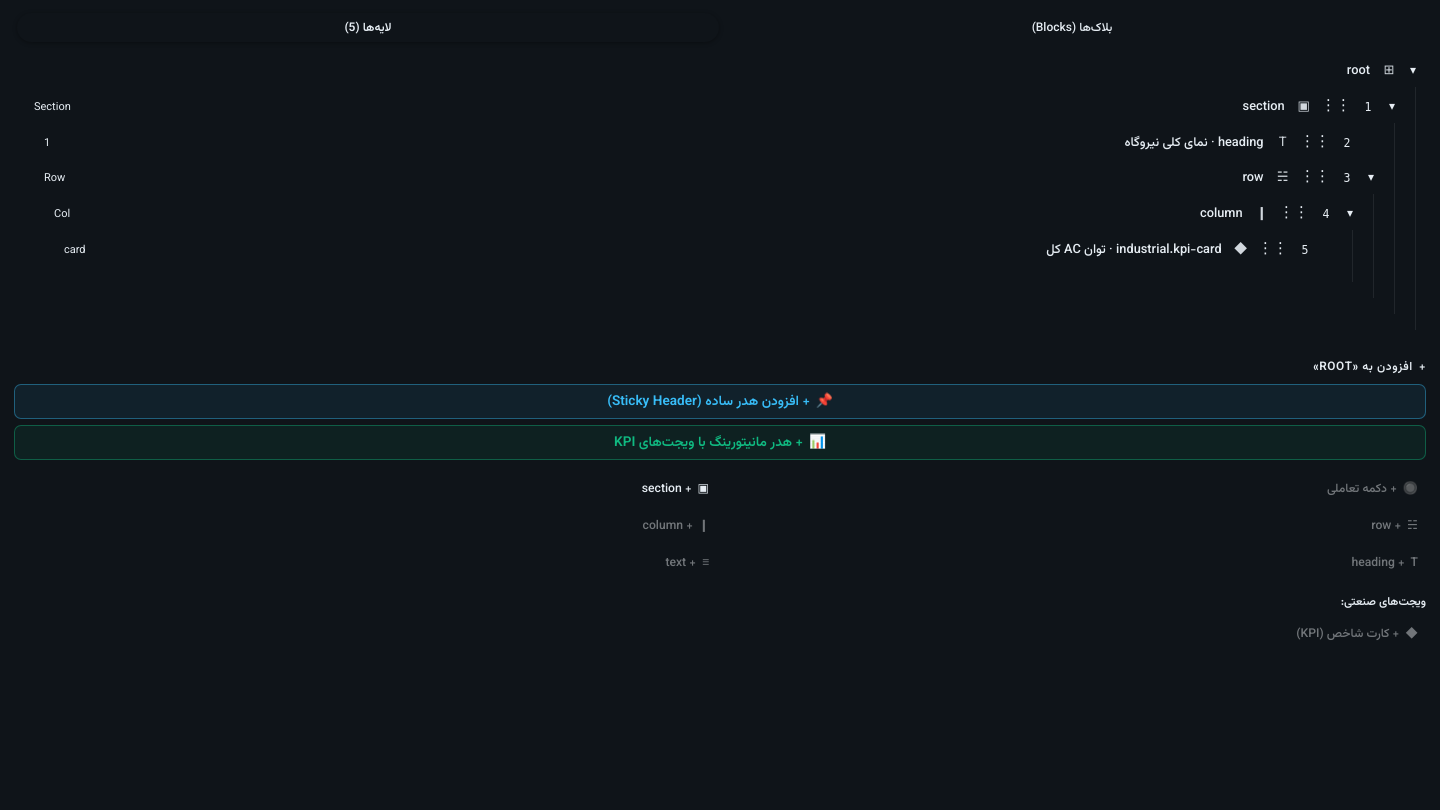
Scenario: layers panel moves nodes between parents › renders the document as a collapsible hierarchy
Expected: the element with test id "layer-kpi-ac-power" is shown, [50,234,1346,266]
What coordinates should you click on to do the following:
click the 3rd button "▾"
I would click on:
 (1371, 178)
Its box is [1362,169,1380,187].
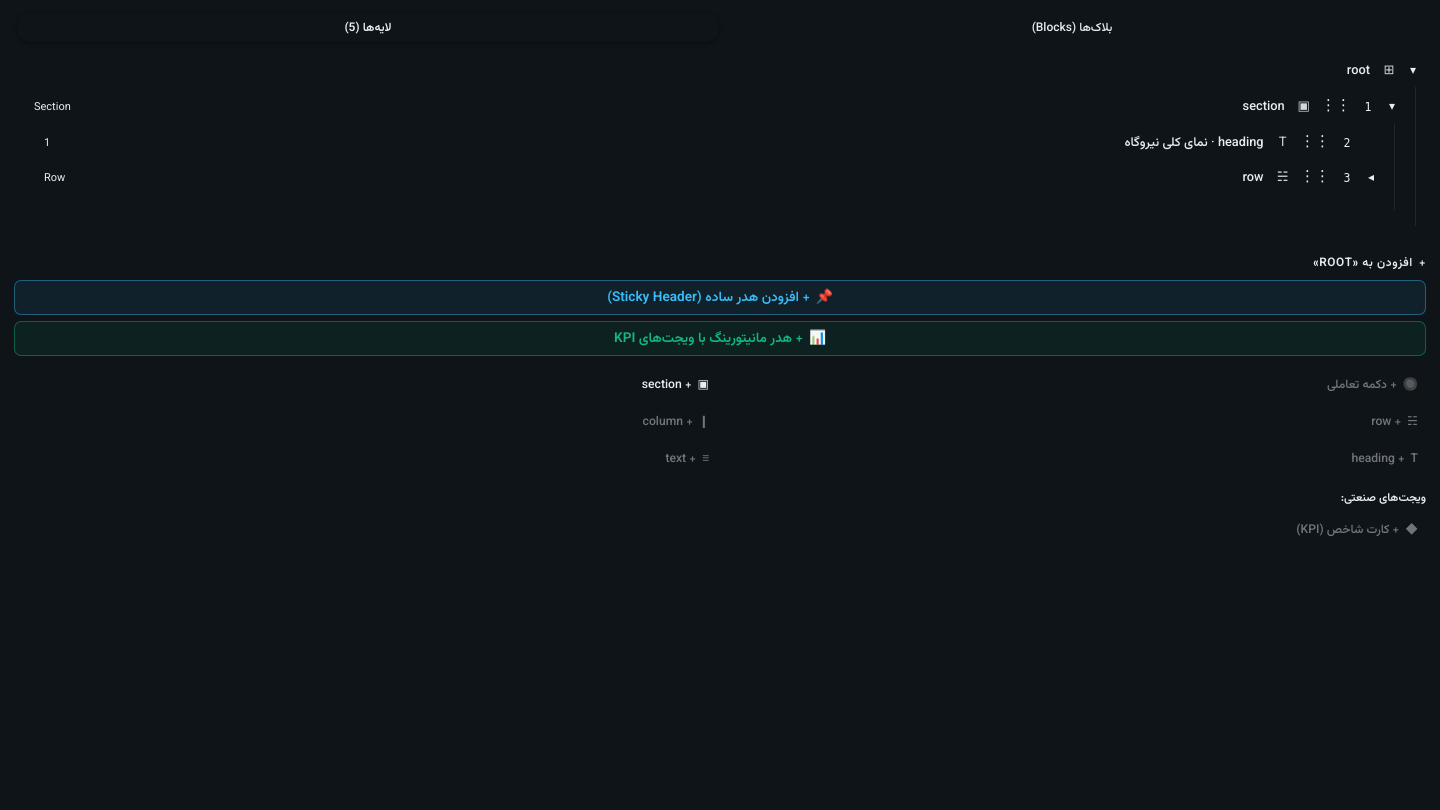
Now the element with test id "layer-col-ac" is gone
What coordinates should you click on to do the following:
click the button "◂"
I would click on:
 (1371, 178)
Its box is [1362,169,1380,187].
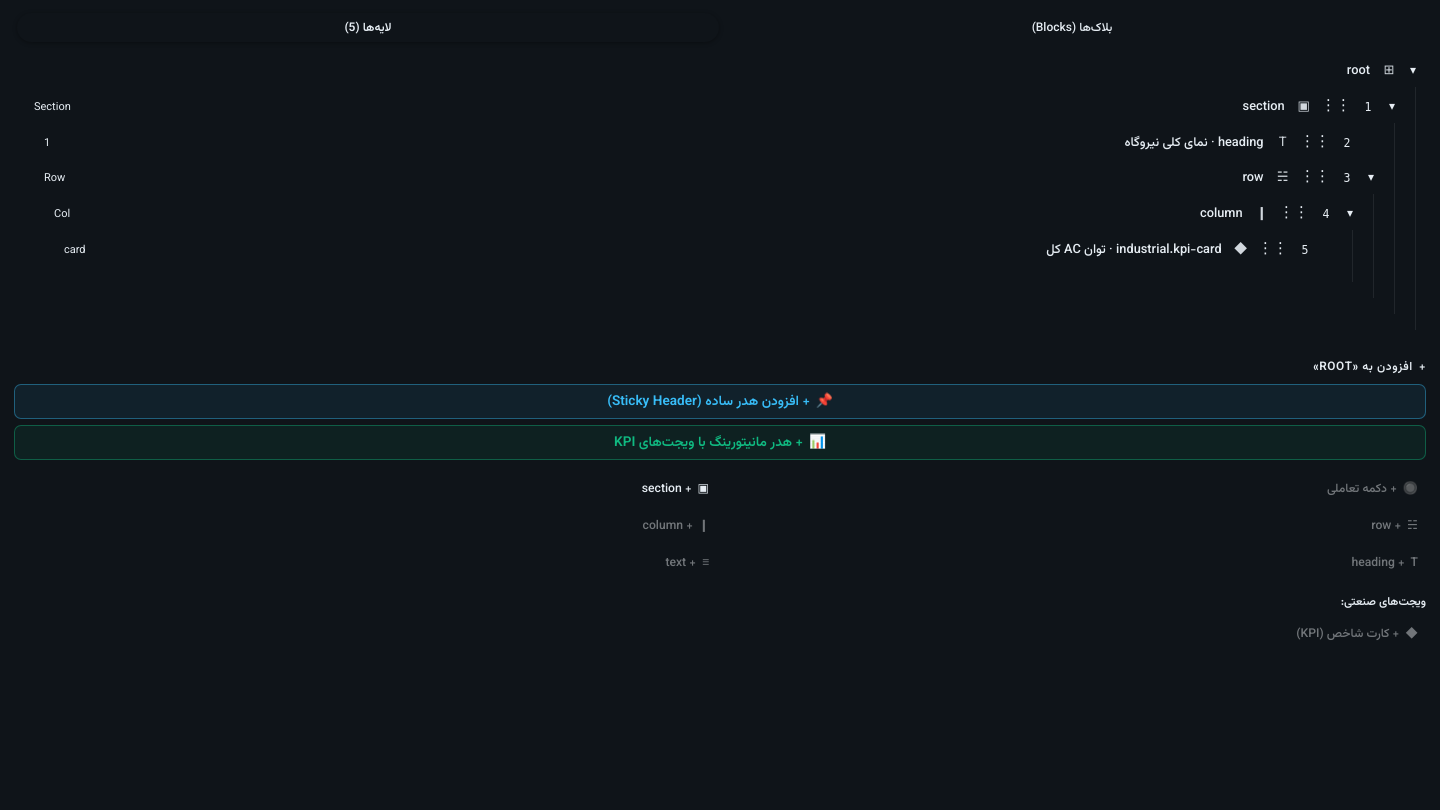
Now the element with test id "layer-kpi-ac-power" is shown, box [50,234,1346,266]
